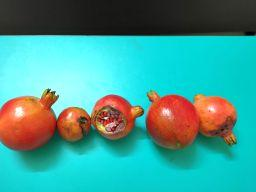pomegranate: (0, 89, 58, 151), (146, 90, 200, 149), (91, 94, 144, 141), (192, 94, 237, 146), (56, 106, 91, 143)
